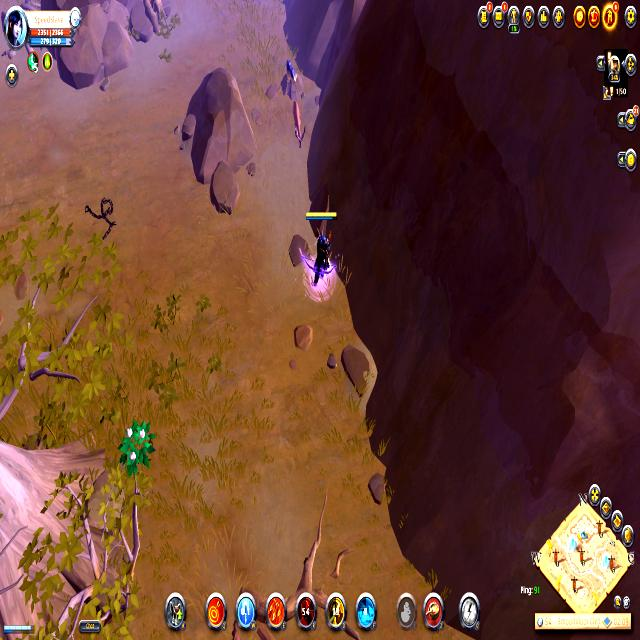hide: (117, 414, 156, 480)
ore: (286, 98, 310, 155)
player: (280, 52, 306, 100)
red: (297, 208, 344, 301), (1, 618, 36, 640)
